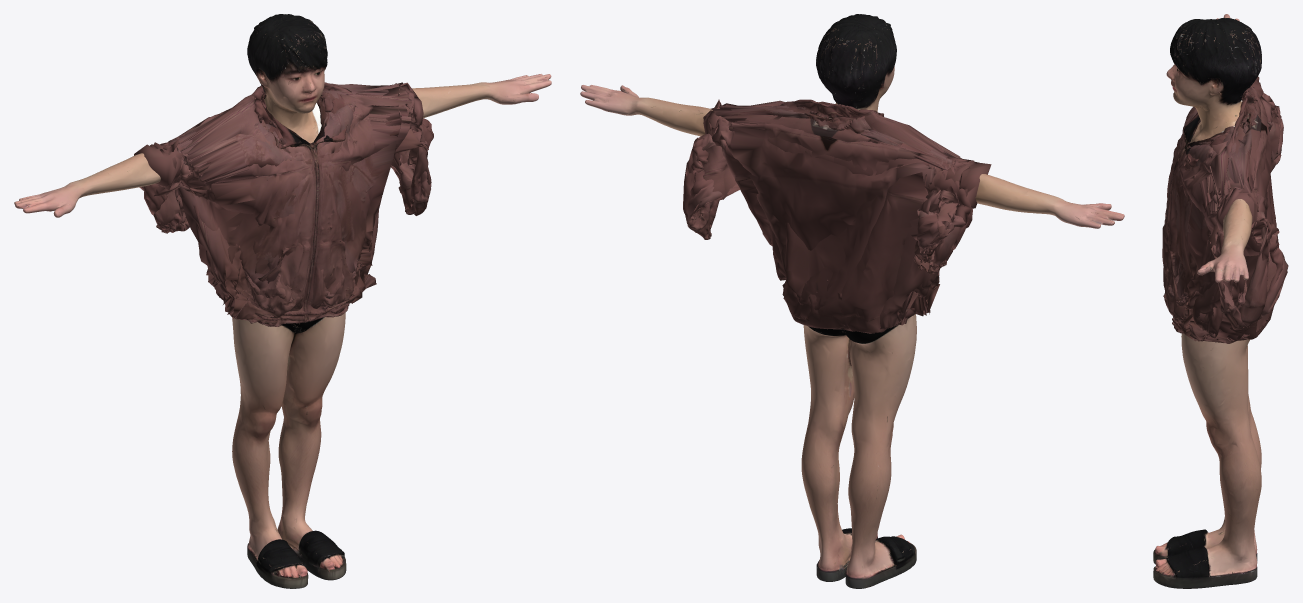
The model's file is fitted.glb.
3 views of the same model, side by side, from view 1: azimuth 30°, elevation 25°; view 2: azimuth 150°, elevation 25°; view 3: azimuth 270°, elevation 25° (orthographic).
Visible parts, largest first — view 1: Mesh_0.001, Body_Lower, Mesh_0, Body_Upper, Body_Feet; view 2: Mesh_0.001, Body_Lower, Mesh_0, Body_Upper, Body_Feet; view 3: Mesh_0.001, Body_Lower, Mesh_0, Body_Feet, Body_Upper.
Part boxes in pixels (x1,y1,x2,y2): Mesh_0.001: [134, 82, 433, 326]; Body_Lower: [232, 312, 345, 532]; Mesh_0: [14, 14, 551, 588]; Body_Upper: [34, 82, 492, 201]; Body_Feet: [247, 519, 346, 588]; Mesh_0.001: [683, 99, 991, 333]; Body_Lower: [801, 314, 916, 567]; Mesh_0: [580, 14, 1124, 588]; Body_Upper: [635, 97, 1066, 220]; Body_Feet: [816, 528, 916, 588]; Mesh_0.001: [1162, 76, 1288, 343]; Body_Lower: [1181, 333, 1261, 555]; Mesh_0: [1166, 14, 1261, 588]; Body_Feet: [1153, 527, 1257, 588]; Body_Upper: [1190, 101, 1252, 269].
Bounding box in the file's own units: 1.91 × 1.85 × 0.412.
Materials: 2 (2 with a texture image).
